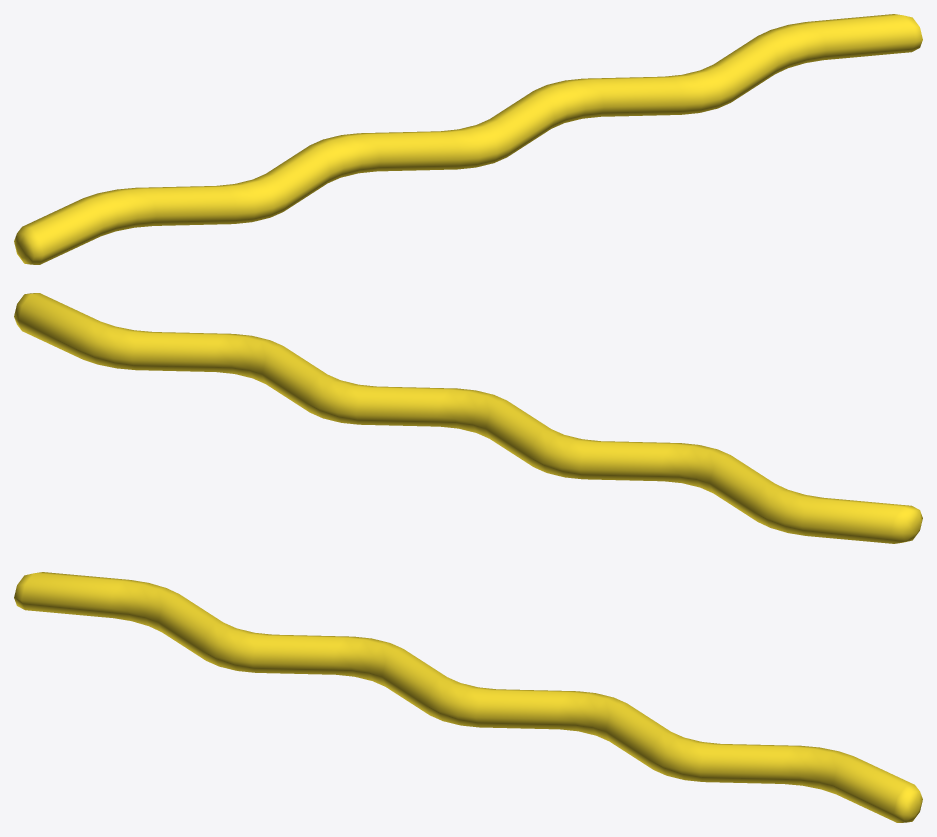
File: Souse.fbx
The picture shows the model from 3 angles, top to bottom: view 1: azimuth 30°, elevation 25°; view 2: azimuth 150°, elevation 25°; view 3: azimuth 330°, elevation 25°; orthographic projection.
Visible parts, largest first — view 1: Souse; view 2: Souse; view 3: Souse.
Boxes of the visible parts, x1=… form: Souse: x1=14, y1=14, x2=922, y2=264; Souse: x1=14, y1=293, x2=922, y2=543; Souse: x1=14, y1=572, x2=922, y2=822.
Bounding box in the file's own units: 153 × 14.66 × 5.82.
